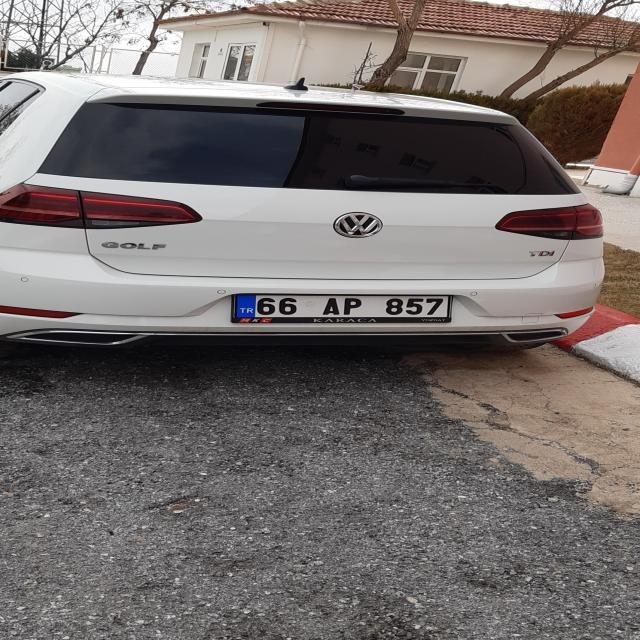plate: (234, 295, 450, 318)
